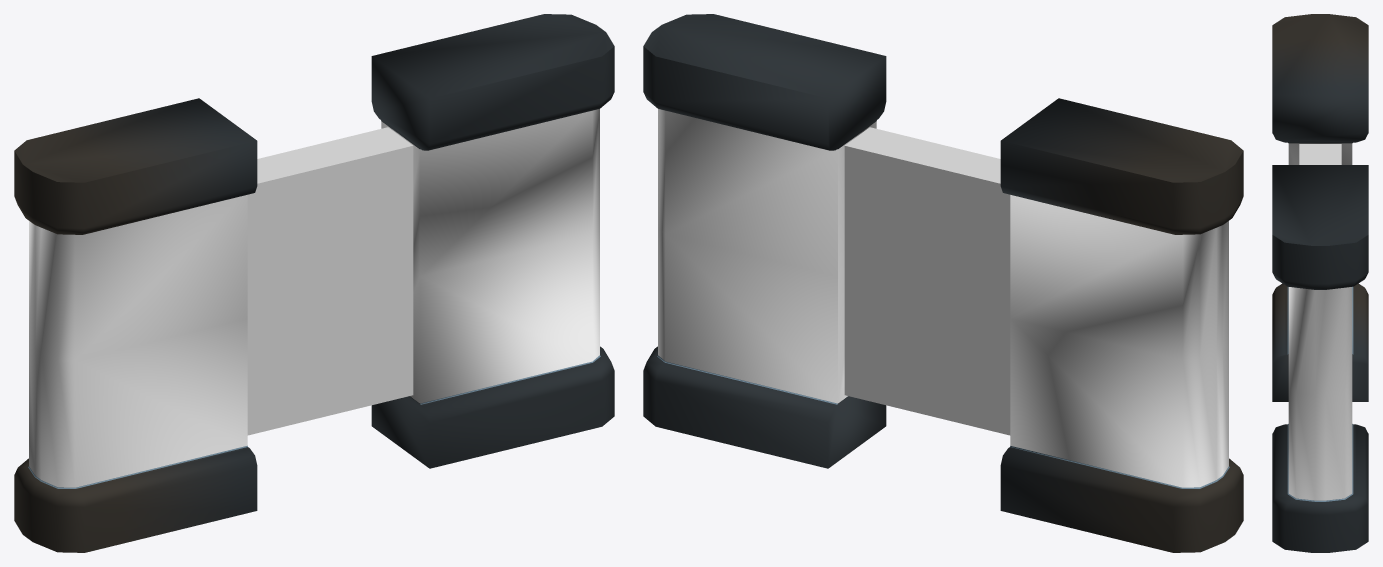
The model's file is Env3_Door.fbx.
3 views of the same model, side by side, from view 1: azimuth 30°, elevation 25°; view 2: azimuth 150°, elevation 25°; view 3: azimuth 270°, elevation 25° (orthographic). The views are drawn at different scales.
Visible parts, largest first — view 1: Env1_Wall, Cube; view 2: Env1_Wall, Cube; view 3: Env1_Wall, Cube.
Part boxes in pixels (<box>): Env1_Wall: <box>14,14,614,552</box>; Cube: <box>247,127,413,435</box>; Env1_Wall: <box>643,14,1243,552</box>; Cube: <box>844,127,1010,435</box>; Env1_Wall: <box>1272,14,1368,552</box>; Cube: <box>1299,144,1341,164</box>.
Bounding box in the file's own units: 332 × 205 × 58.24.
